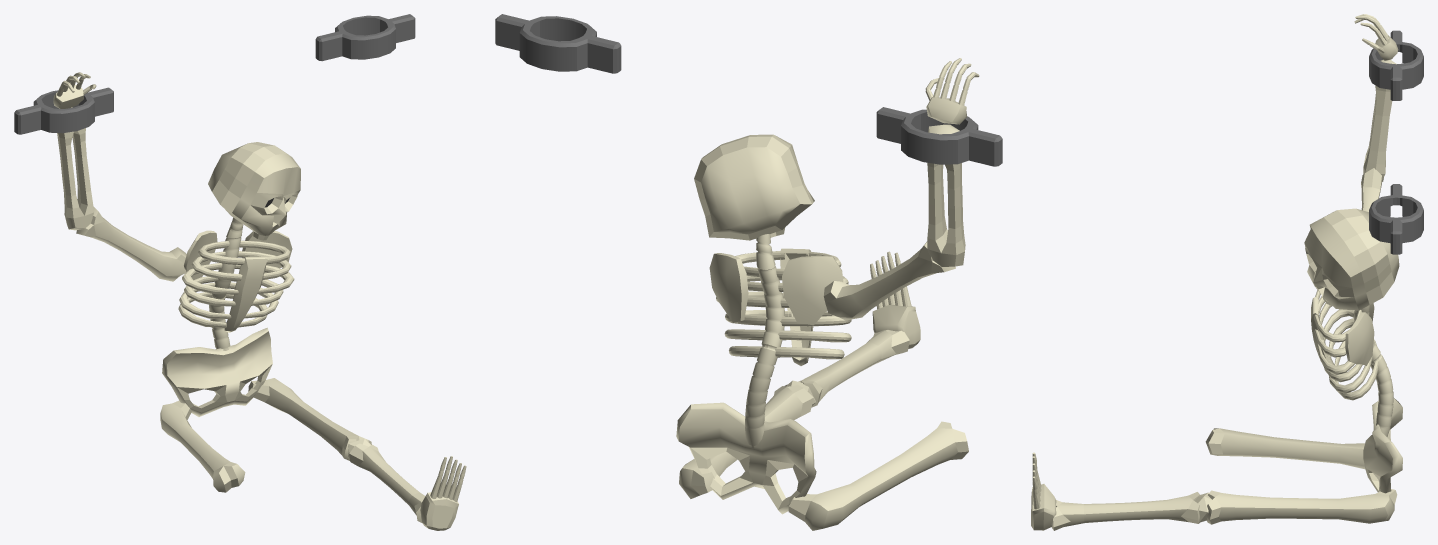
File: Cadaver2.fbx
3 renders of one model, left to right at view 1: azimuth 30°, elevation 25°; view 2: azimuth 150°, elevation 25°; view 3: azimuth 270°, elevation 25°, orthographic. The views are drawn at different scales.
Visible parts, largest first — view 1: Cadaver2; view 2: Cadaver2; view 3: Cadaver2.
Part boxes in pixels (x1,y1,x2,y2): Cadaver2: (14, 14, 466, 530); Cadaver2: (495, 14, 1002, 530); Cadaver2: (1031, 14, 1423, 530).
Size of the model in its own units: 0.0126 by 0.0119 by 0.0104.
